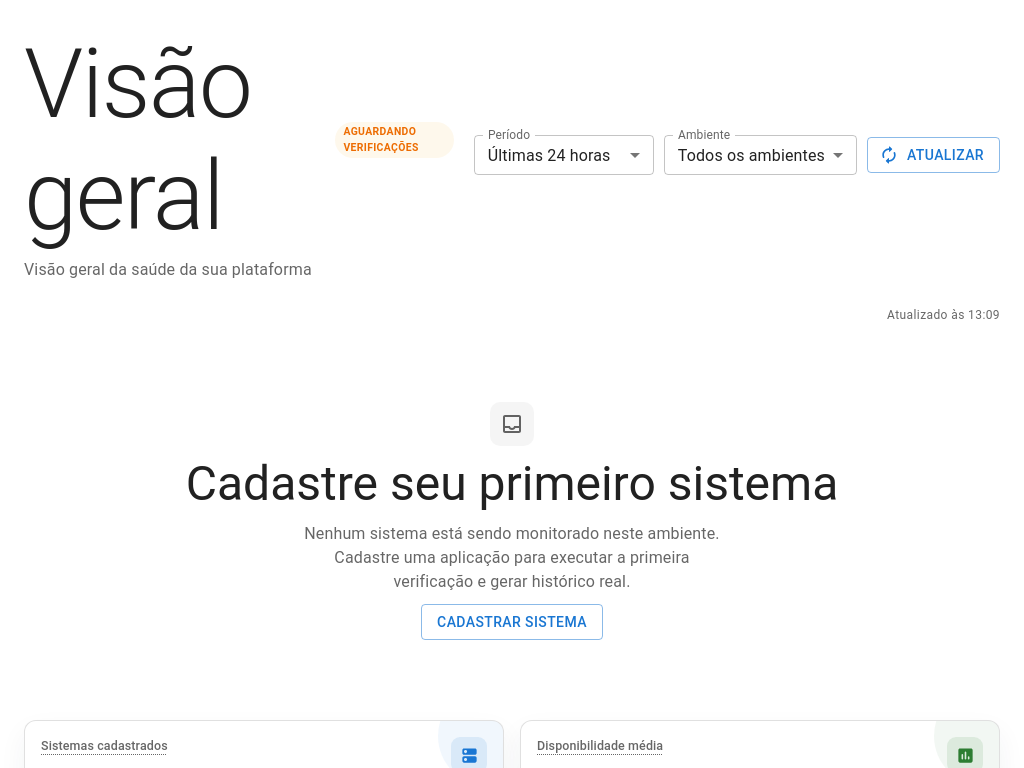
Test: Visão geral operacional › preserva dados reais anteriores e informa falha ao atualizar
Check: the heading "Cadastre seu primeiro sistema" is shown, box [186,456,838,512]
Click the button "Atualizar" at (934, 155), box [867,137,1000,173]
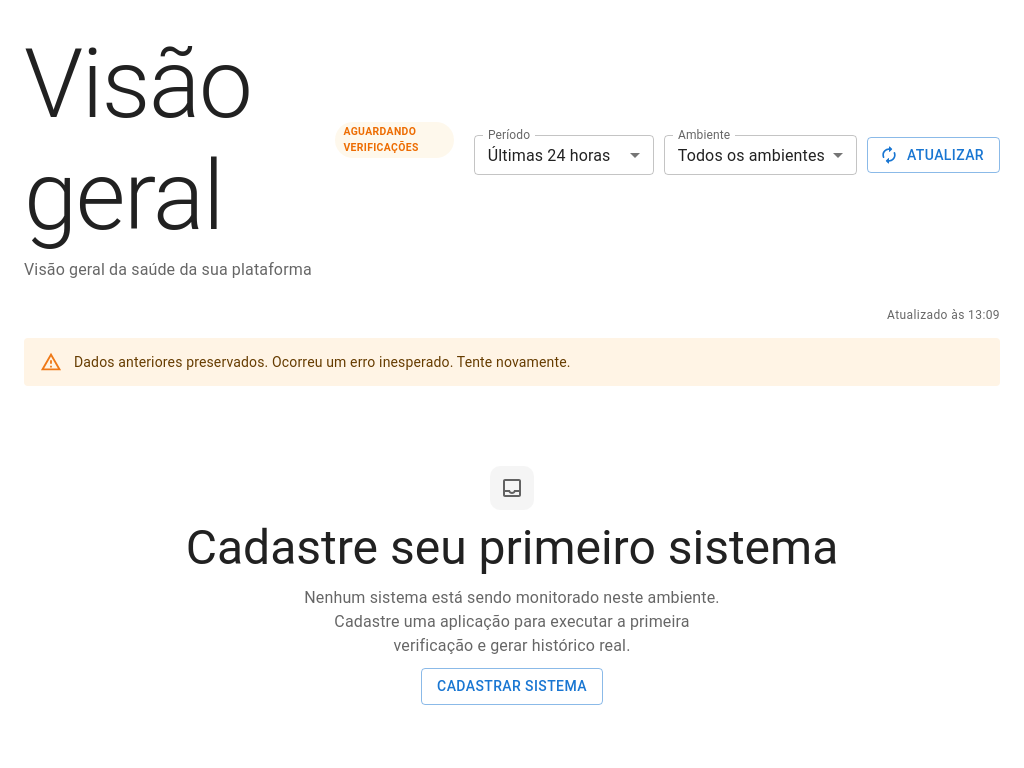
Check: the heading "Cadastre seu primeiro sistema" is shown, box [186,520,838,576]
Check: the text "Dados anteriores preservados" is shown, box [74,354,272,370]
